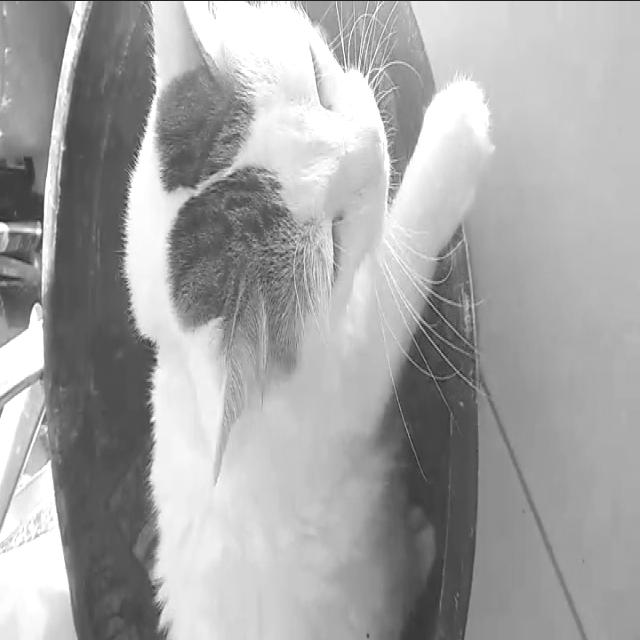Simba: (120, 2, 487, 606)
